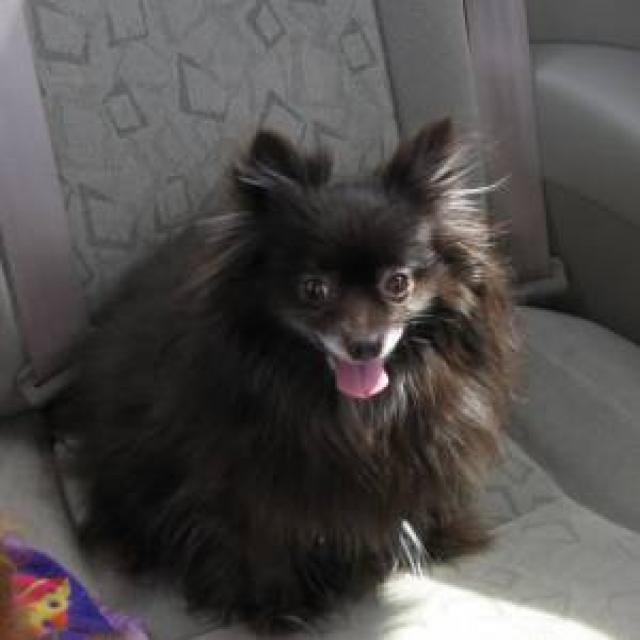dog-pomeranian: (73, 108, 518, 629)
